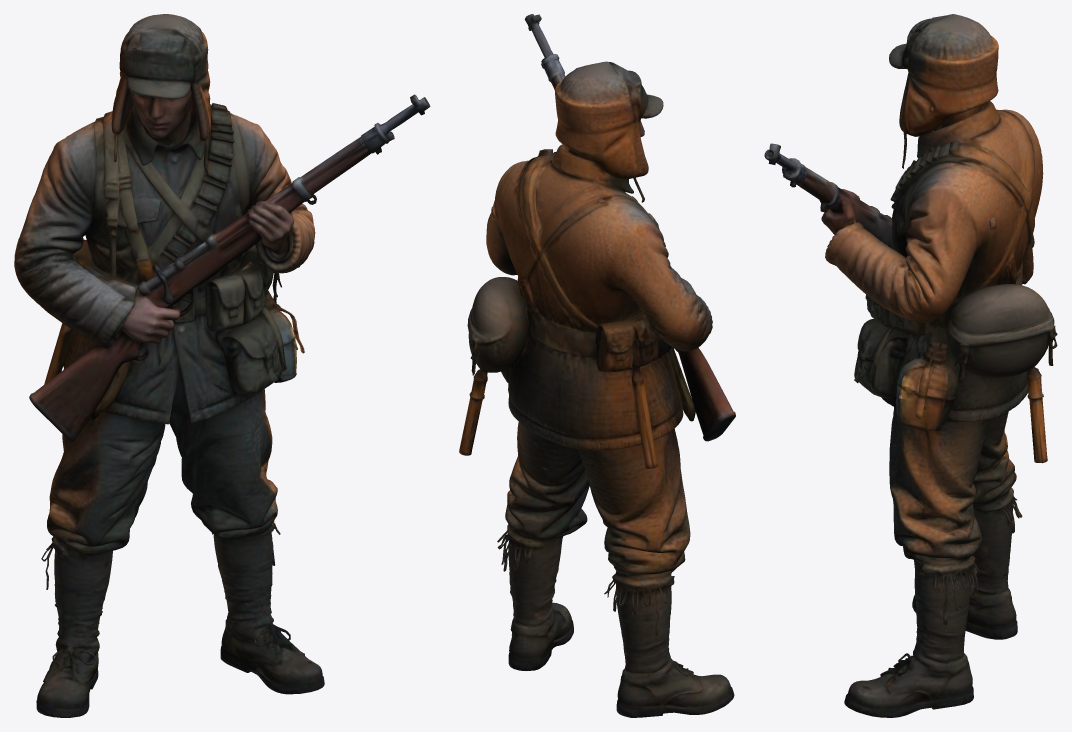
Rendered from char_rifleman.glb.
3 renders of one model, left to right at view 1: azimuth 30°, elevation 25°; view 2: azimuth 150°, elevation 25°; view 3: azimuth 270°, elevation 25°, orthographic. The views are drawn at different scales.
Visible parts, largest first — view 1: node_0; view 2: node_0; view 3: node_0.
Part boxes in pixels (x1=…): node_0: x1=14, y1=14, x2=430, y2=717; node_0: x1=459, y1=14, x2=735, y2=717; node_0: x1=764, y1=14, x2=1057, y2=717.
Bounding box in the file's own units: 0.5392 × 1.09 × 0.4507.
Materials: 1 (1 with a texture image).
